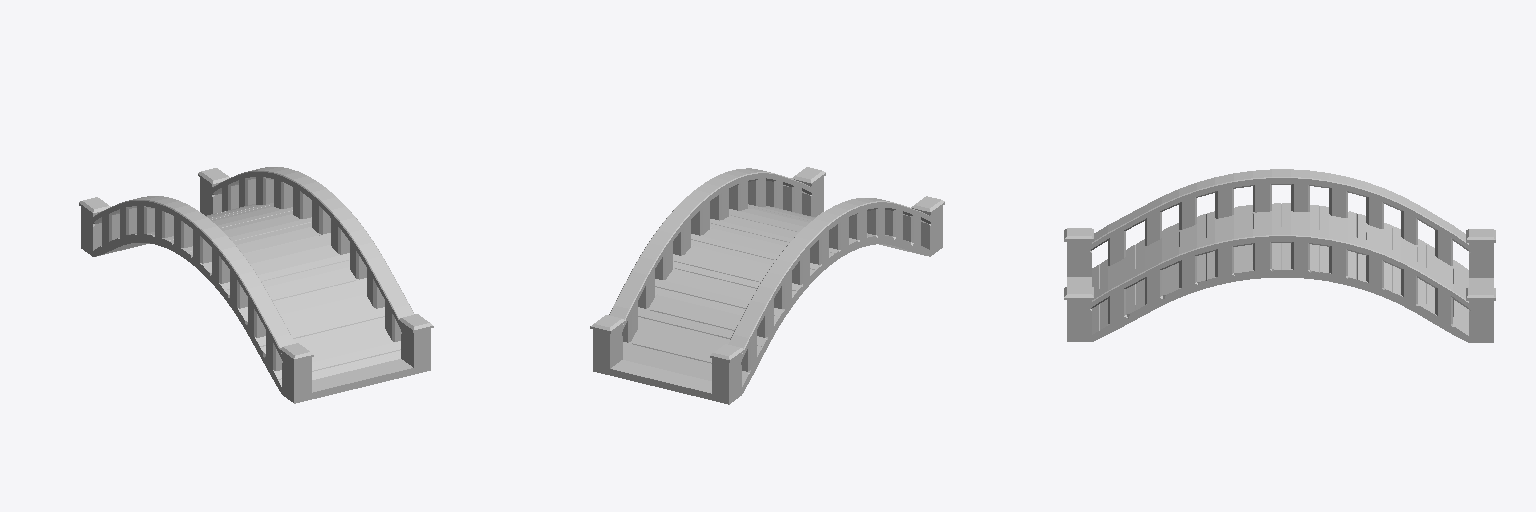
File: Bridge.obj
3 renders of one model, left to right at view 1: azimuth 30°, elevation 25°; view 2: azimuth 150°, elevation 25°; view 3: azimuth 270°, elevation 25°, orthographic.
Visible parts, largest first — view 1: pCube1; view 2: pCube1; view 3: pCube1.
Boxes of the visible parts, <box> form: pCube1: <box>79,167,433,403</box>; pCube1: <box>590,167,944,404</box>; pCube1: <box>1064,169,1495,342</box>.
Size of the model in its own units: 1.25 by 0.9241 by 3.36.